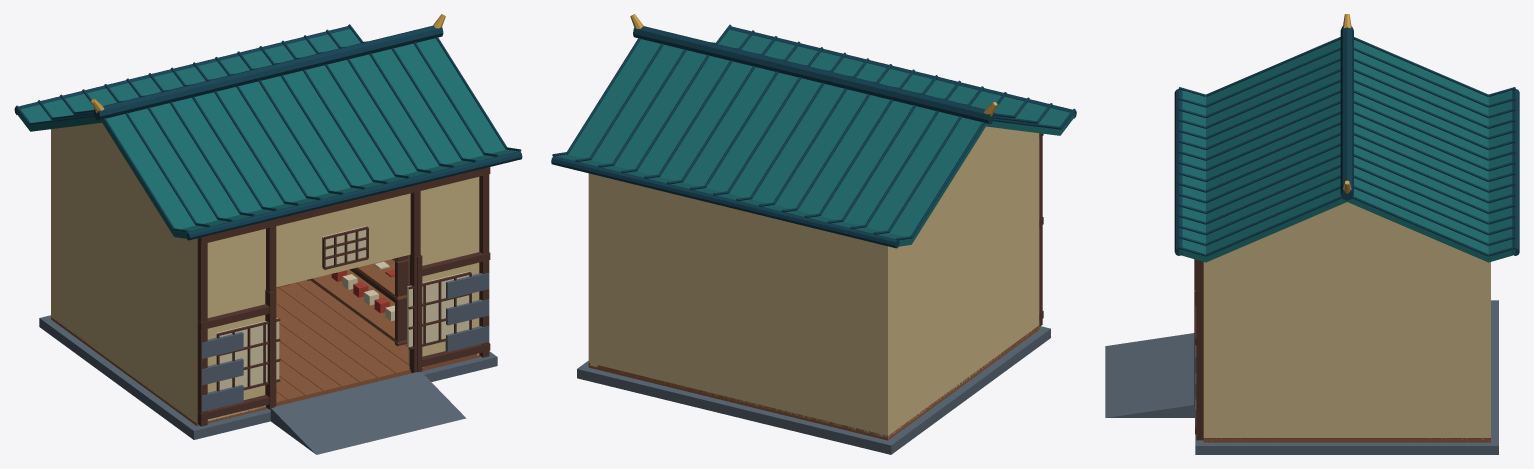
The model's file is warehouse.glb.
3 renders of one model, left to right at view 1: azimuth 30°, elevation 25°; view 2: azimuth 150°, elevation 25°; view 3: azimuth 270°, elevation 25°, orthographic. The views are drawn at different scales.
Visible parts, largest first — view 1: CP_Roof, CP_Wall_Front, CP_Wall_Left, CP_Floor, CP_Interior, CP_Wall_Back; view 2: CP_Roof, CP_Wall_Back, CP_Wall_Left, CP_Floor, CP_Wall_Right, CP_Wall_Front; view 3: CP_Roof, CP_Wall_Right, CP_Floor, CP_Wall_Front, CP_Wall_Back.
Boxes of the visible parts, box(x1,y1,x2,y2) form: CP_Roof: box(14, 14, 522, 240); CP_Wall_Front: box(192, 167, 490, 426); CP_Wall_Left: box(51, 132, 197, 423); CP_Floor: box(39, 280, 497, 454); CP_Interior: box(276, 255, 408, 346); CP_Wall_Back: box(51, 129, 55, 320); CP_Roof: box(551, 14, 1076, 248); CP_Wall_Back: box(588, 173, 893, 437); CP_Wall_Left: box(879, 133, 1039, 437); CP_Floor: box(577, 325, 1050, 454); CP_Wall_Right: box(588, 174, 597, 367); CP_Wall_Front: box(1039, 133, 1043, 326); CP_Roof: box(1174, 14, 1519, 262); CP_Wall_Right: box(1203, 254, 1490, 439); CP_Floor: box(1105, 300, 1498, 454); CP_Wall_Front: box(1194, 259, 1213, 440); CP_Wall_Back: box(1481, 259, 1490, 439).
Size of the model in its own units: 9.8 by 7.66 by 10.11.
